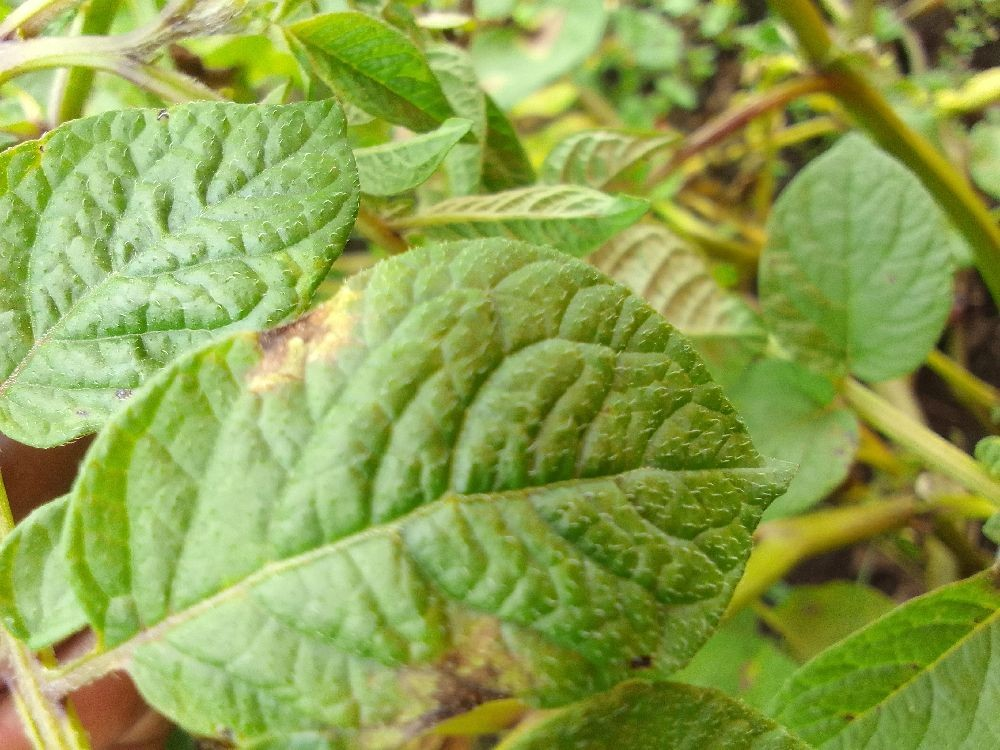late_blight: (0, 597, 264, 750), (338, 577, 571, 750), (817, 0, 1000, 97)
